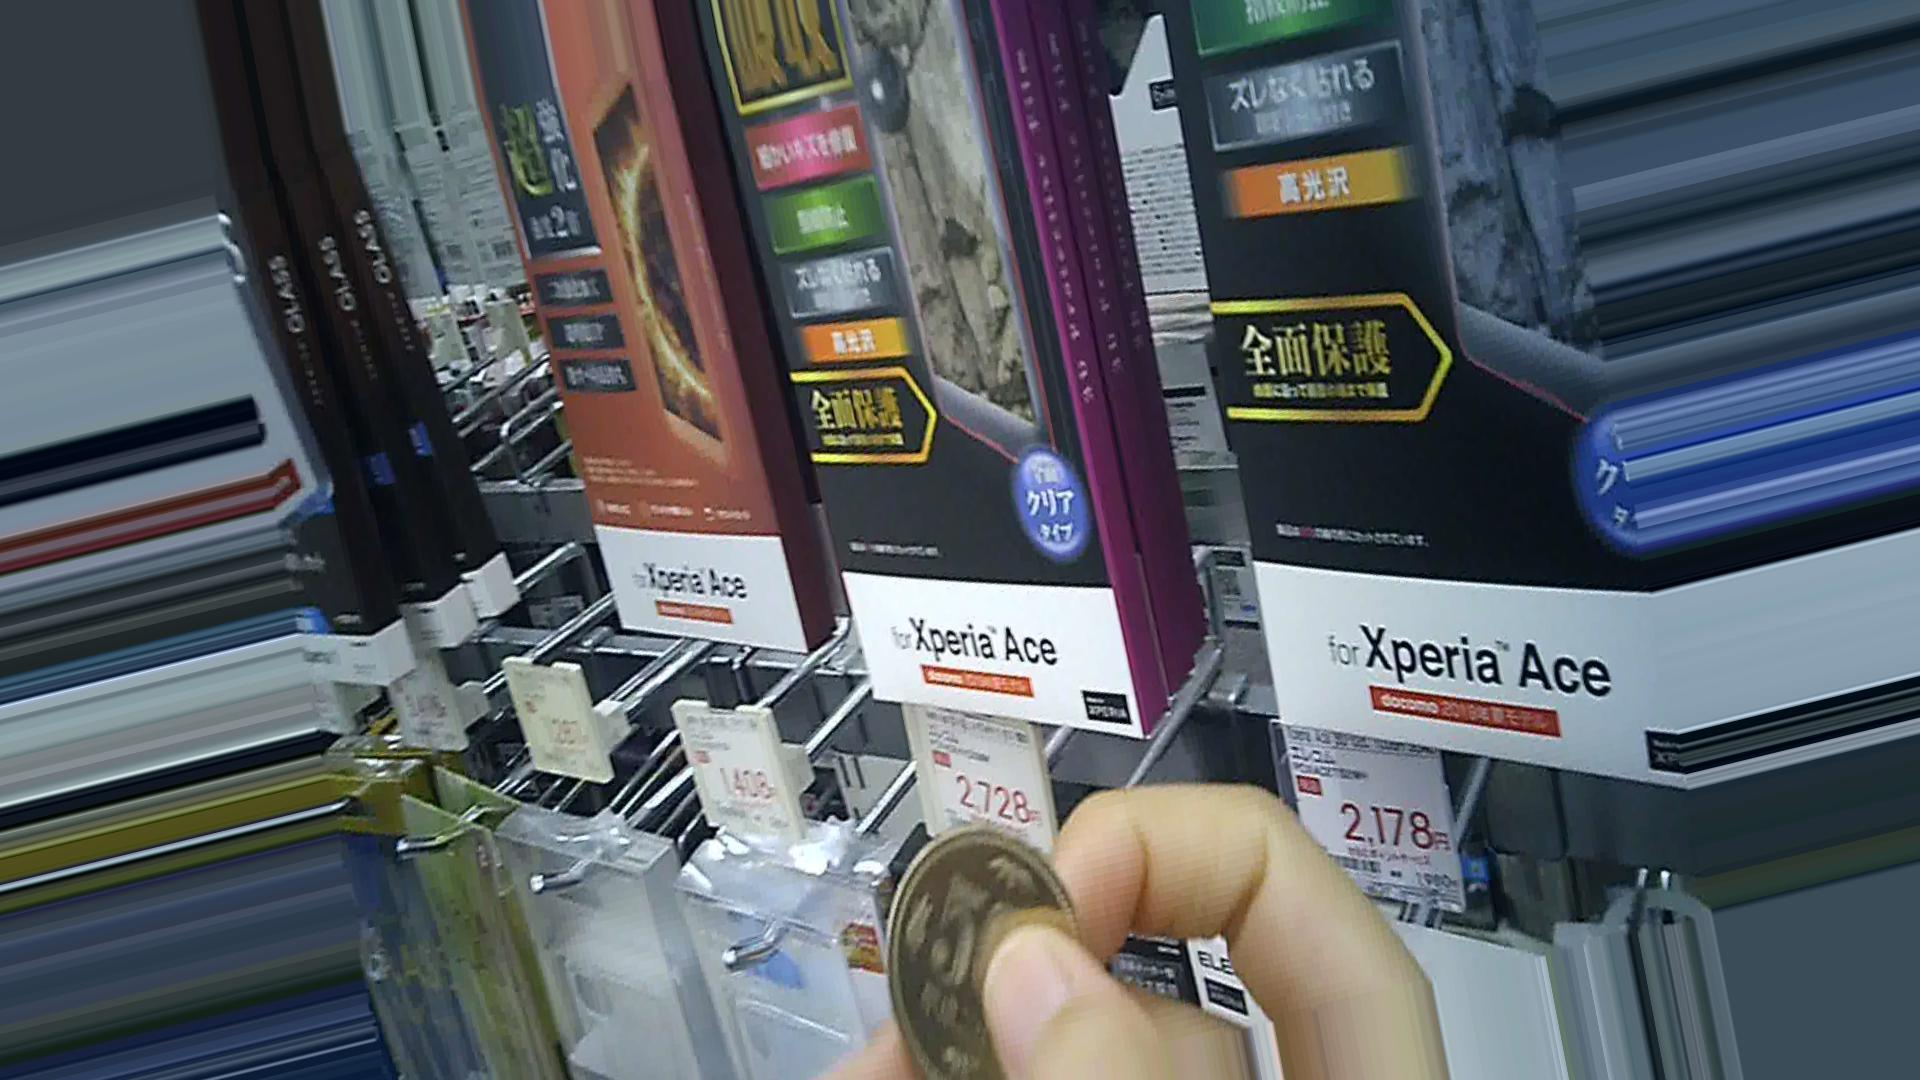500 Yen: (882, 814, 1114, 1077)
